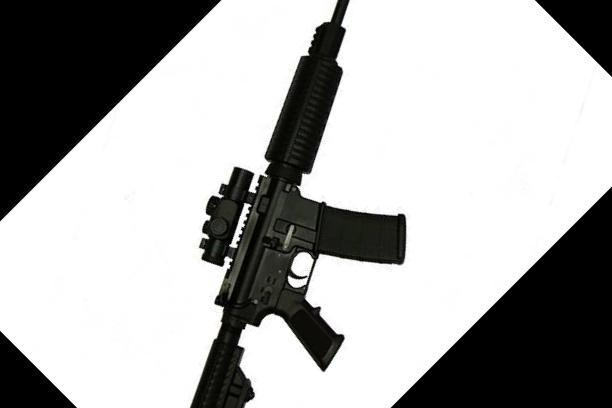larga: (191, 1, 408, 408)
